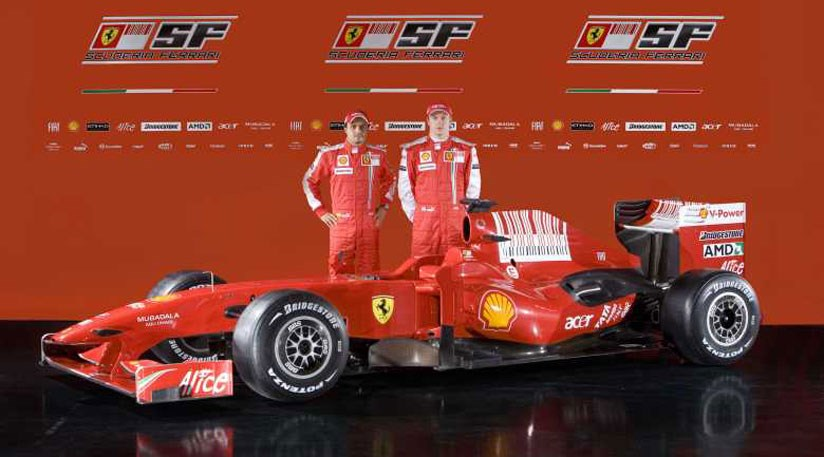f1_car: (29, 185, 771, 422)
